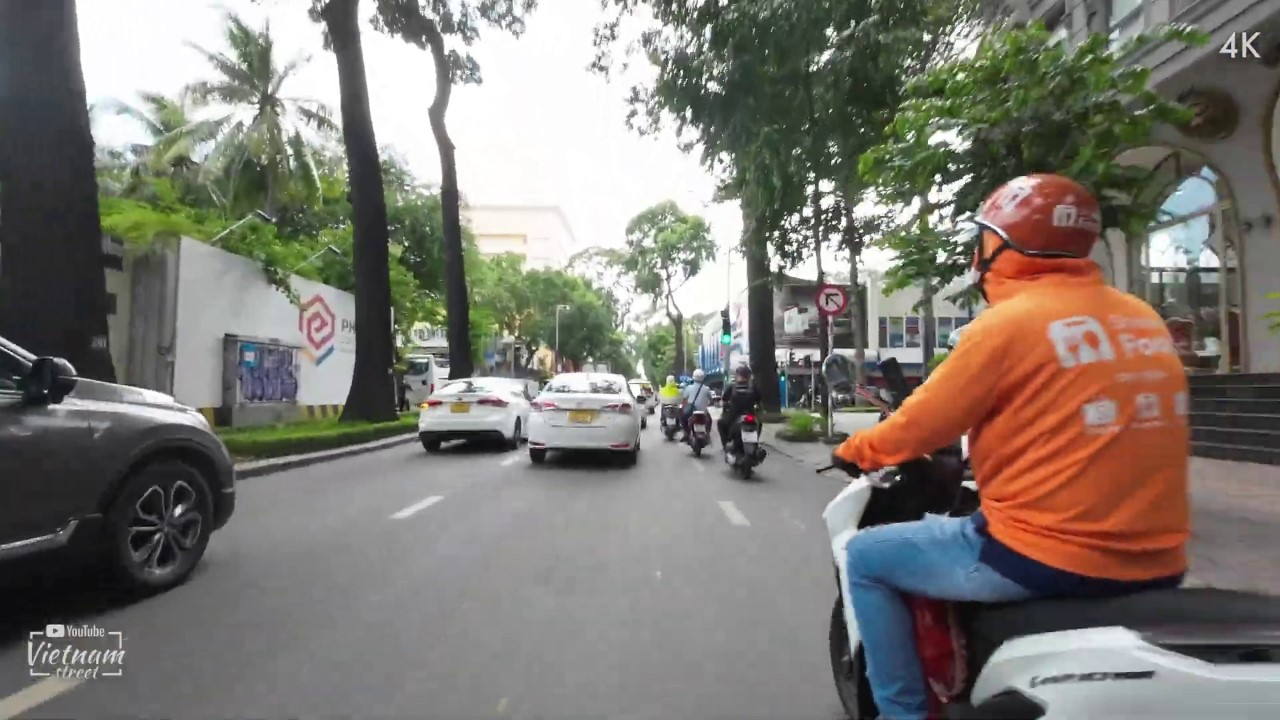cam_re_phai: (815, 283, 847, 315)
